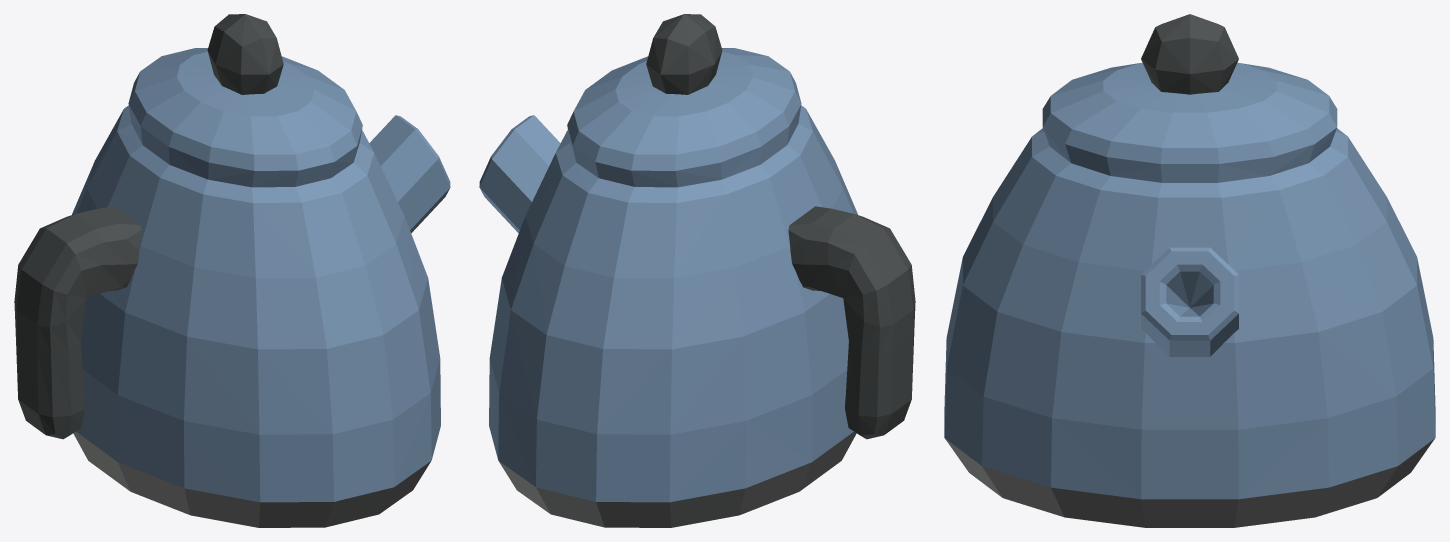
The model's file is kettle.glb.
The picture shows the model from 3 angles, left to right: view 1: azimuth 30°, elevation 25°; view 2: azimuth 150°, elevation 25°; view 3: azimuth 270°, elevation 25°; orthographic projection. The views are drawn at different scales.
Bounding box in the file's own units: 1 × 1 × 1.
